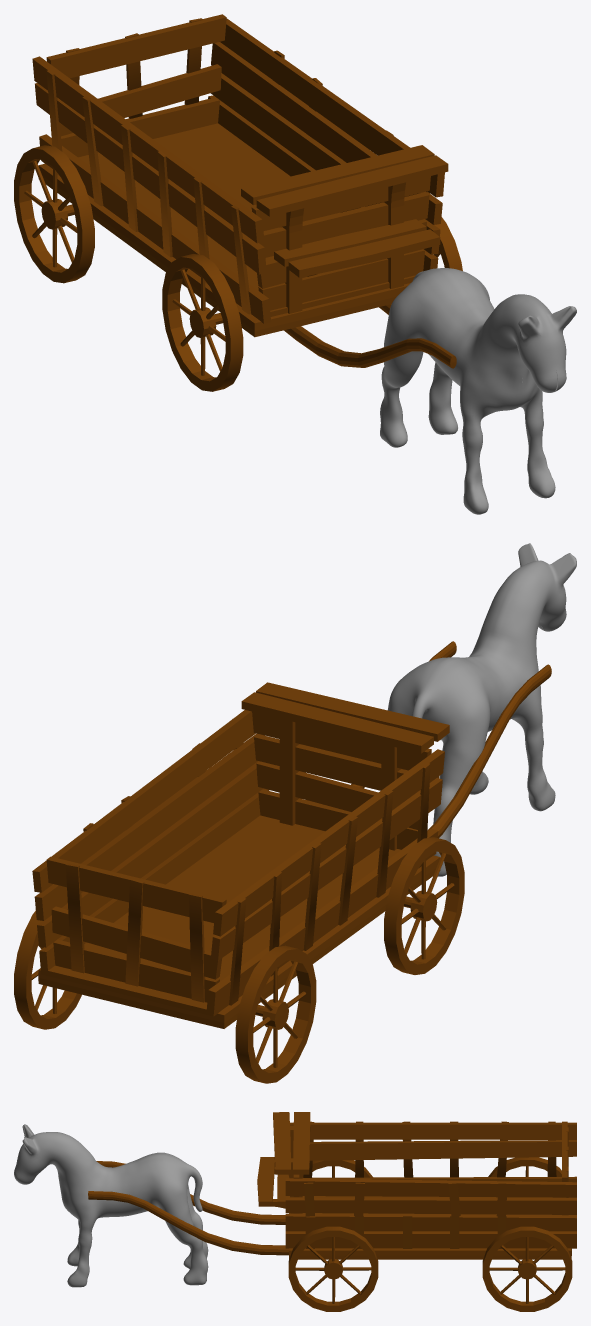
Rendered from WagonProxy.FBX.
3 views of the same model, one above another, from view 1: azimuth 30°, elevation 25°; view 2: azimuth 150°, elevation 25°; view 3: azimuth 270°, elevation 25° (orthographic). The views are drawn at different scales.
Parts seen in each view (by area): view 1: Wagon, Donkey_Proxy, WagonBack, WagonSideboards_R; view 2: Wagon, Donkey_Proxy, WagonBack, WagonSideboards_R; view 3: Wagon, Donkey_Proxy, WagonSideboards_R, WagonBack.
Boxes of the visible parts, <box> form: Wagon: <box>14,56,462,391</box>; Donkey_Proxy: <box>380,268,576,514</box>; WagonBack: <box>46,14,226,157</box>; WagonSideboards_R: <box>211,18,444,224</box>; Wagon: <box>14,641,551,1083</box>; Donkey_Proxy: <box>387,543,576,876</box>; WagonBack: <box>46,856,226,1002</box>; WagonSideboards_R: <box>32,710,264,920</box>; Wagon: <box>88,1112,576,1311</box>; Donkey_Proxy: <box>14,1124,208,1287</box>; WagonSideboards_R: <box>285,1178,576,1216</box>; WagonBack: <box>562,1121,568,1215</box>.
Bounding box in the file's own units: 176 × 160 × 560.
